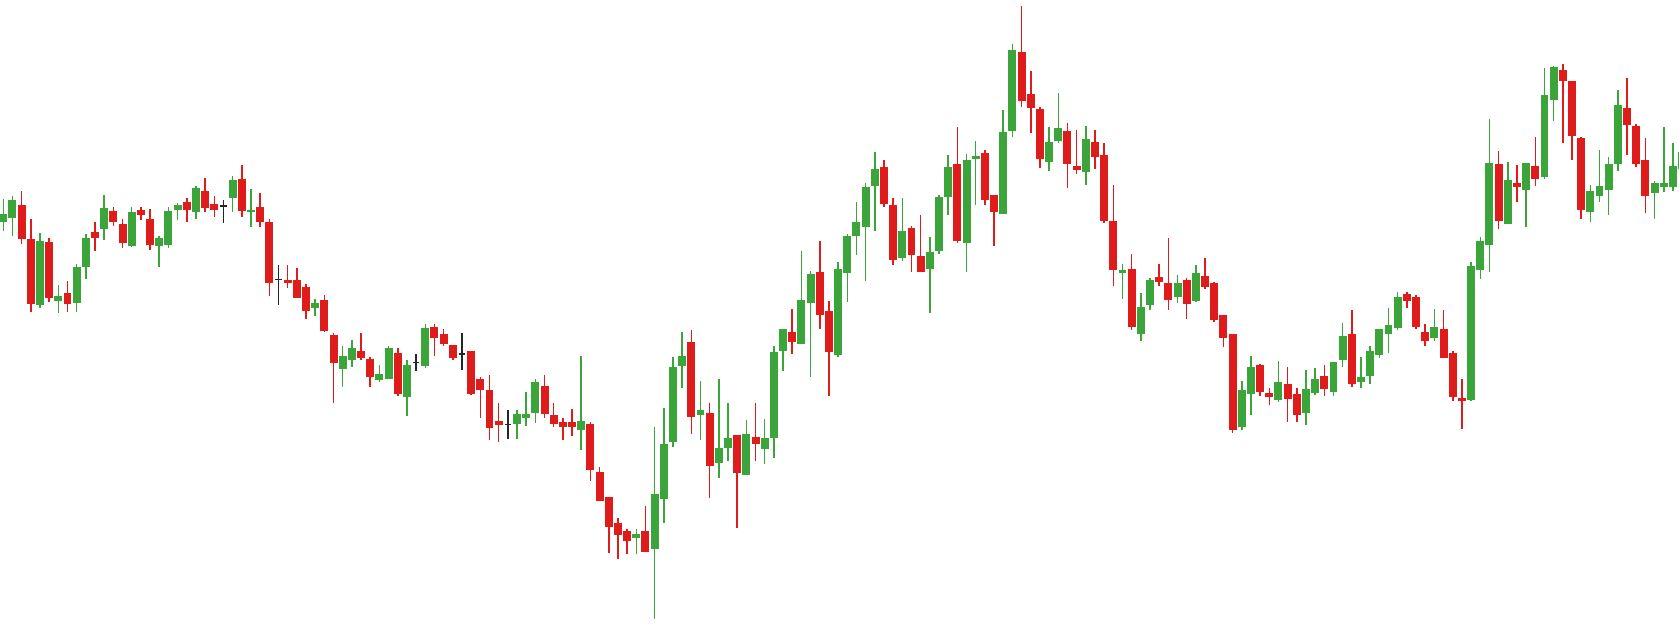buy: (1345, 326, 1478, 430)
sell: (530, 350, 588, 439), (190, 162, 249, 219)
